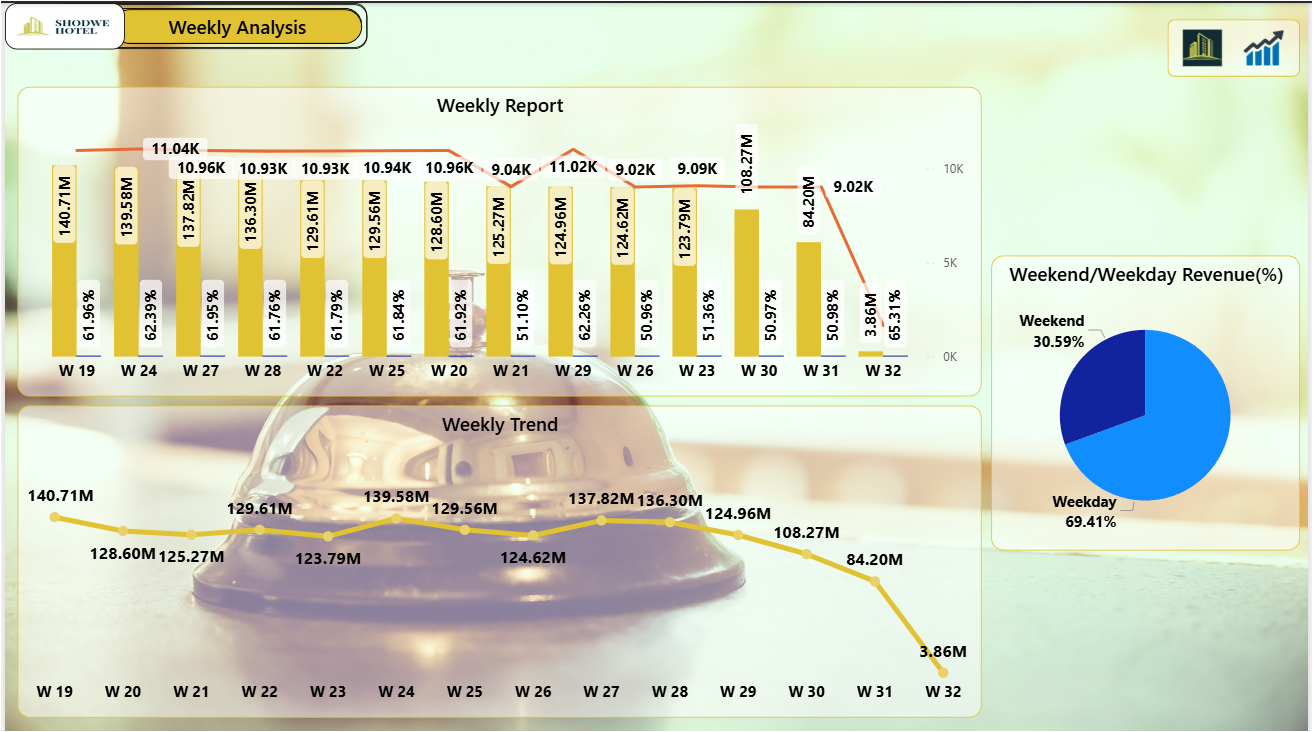

Layout of this report page (visuals, bound fields, positions):
{"tool":"tableau","page":{"name":"Dashboard 2","canvas":[1300,800],"ordinal":1},"visuals":[{"type":"image","param":"Image/Green - Blue Background.png","box":[0,0,1300,800]},{"type":"worksheet","title":"Sheet 11","mark":"Automatic","box":[0,0,1300,800]},{"type":"dashboard-object","box":[0,0,47,34]},{"type":"dashboard-object","box":[1230,0,69,40]},{"type":"worksheet","title":"Sheet 9","mark":"Bar","rows":["revenue_generated","Calculation_680888027196207104"],"cols":["week_no"],"box":[660,119,622,618]},{"type":"worksheet","title":"Sheet 1","mark":"Bar","rows":["revenue_generated","successful_bookings"],"cols":["week_no"],"box":[25,122,598,617]}]}

Visuals, with their boxes on the page's 1300x800 design canvas (x1, y1, x2, y2). These are canvas units, not pixel positions in the 1313x732 screenshot, which may show the page scaled, cropped or inside an application window:
image: {"left": 0, "top": 0, "right": 1300, "bottom": 800}
"Sheet 11" worksheet: {"left": 0, "top": 0, "right": 1300, "bottom": 800}
dashboard-object: {"left": 0, "top": 0, "right": 47, "bottom": 34}
dashboard-object: {"left": 1230, "top": 0, "right": 1299, "bottom": 40}
"Sheet 9" worksheet (Bar marks): {"left": 660, "top": 119, "right": 1282, "bottom": 737}
"Sheet 1" worksheet (Bar marks): {"left": 25, "top": 122, "right": 623, "bottom": 739}
